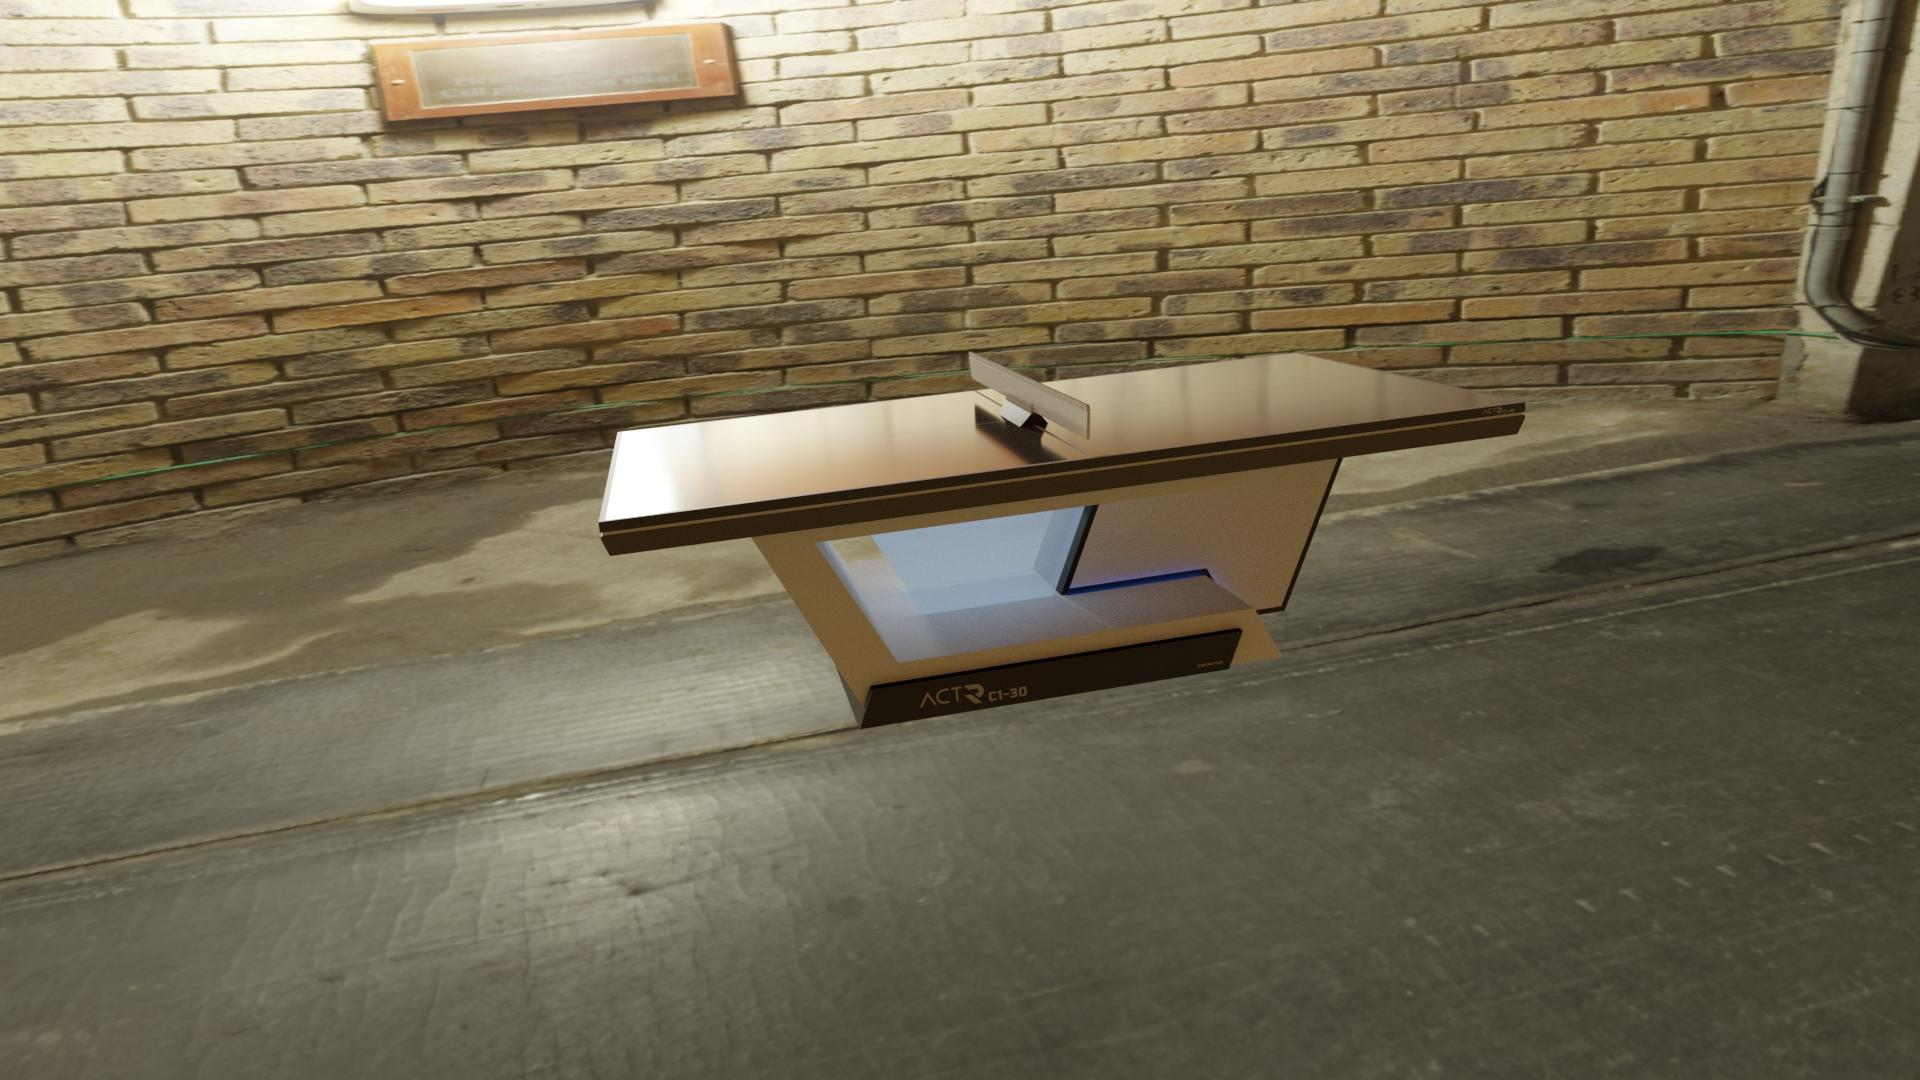table: (607, 353, 1515, 520)
